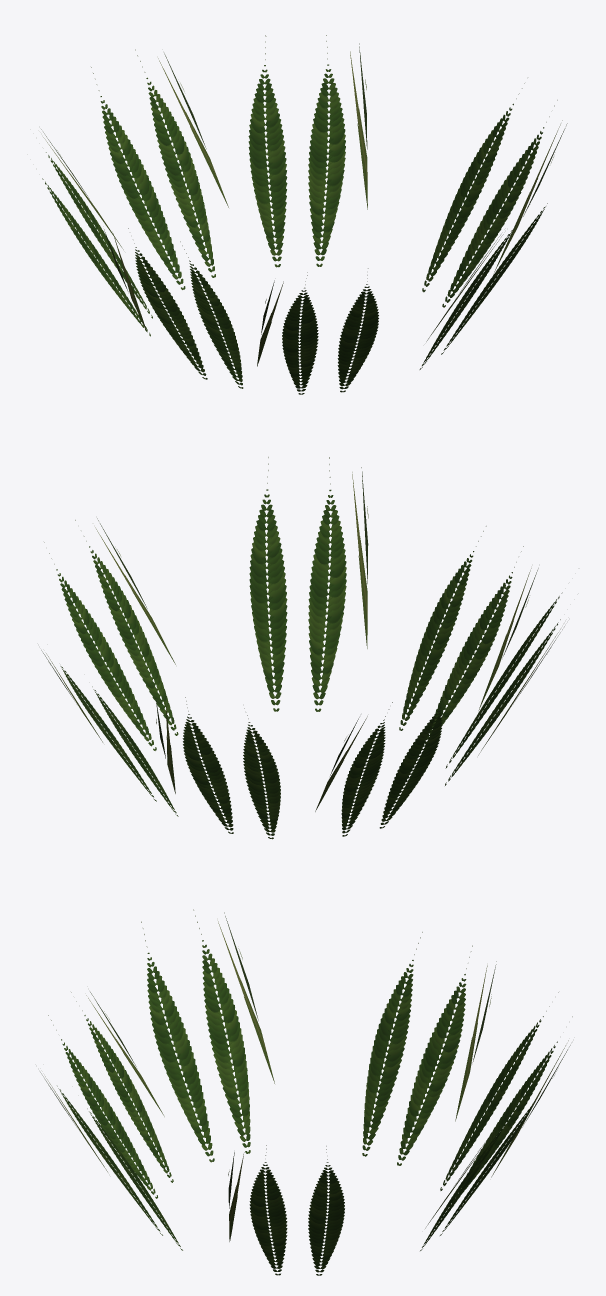
Rendered from FernClump_1.fbx.
3 renders of one model, top to bottom at view 1: azimuth 30°, elevation 25°; view 2: azimuth 150°, elevation 25°; view 3: azimuth 270°, elevation 25°, orthographic.
Parts seen in each view (by area): view 1: FernClump_1; view 2: FernClump_1; view 3: FernClump_1.
Boxes of the visible parts, box(x1,y1,x2,y2) form: FernClump_1: box(41, 35, 567, 394); FernClump_1: box(41, 457, 564, 839); FernClump_1: box(40, 909, 572, 1275).
Size of the model in its own units: 1.26 by 0.5359 by 1.28.
